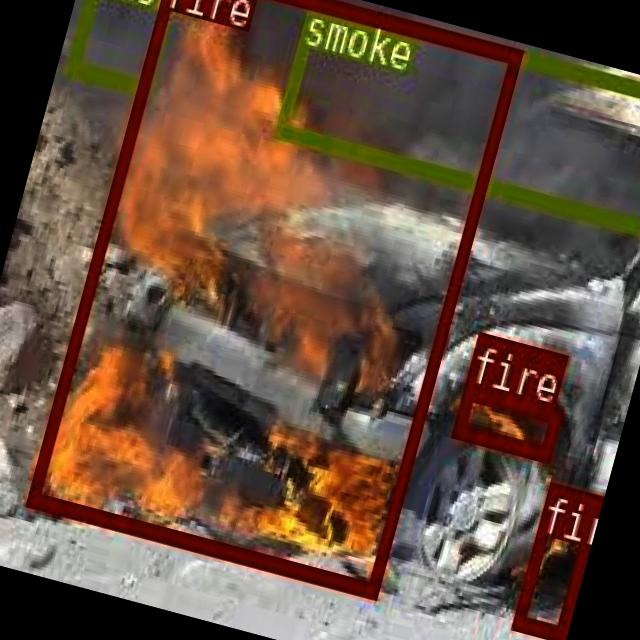fire: (25, 0, 521, 593), (510, 479, 600, 637), (451, 380, 562, 459)
smoke: (272, 0, 640, 233), (64, 0, 183, 95)
